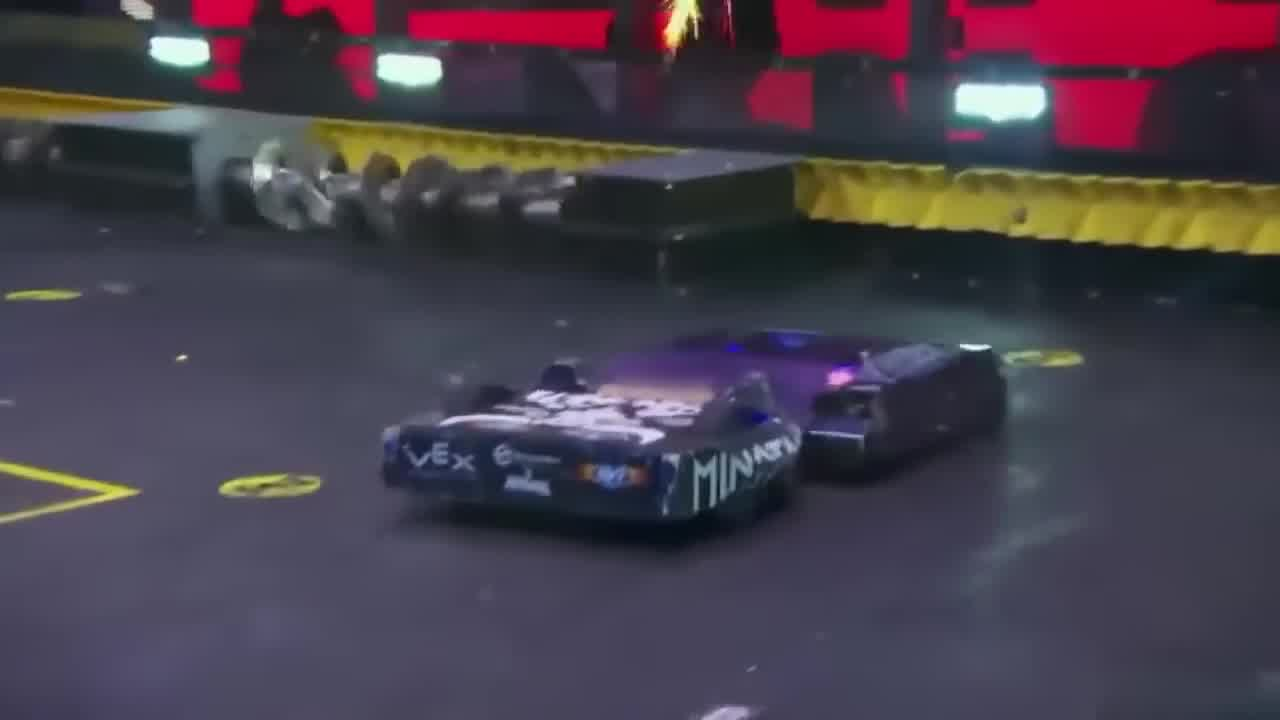combatbot: (382, 359, 807, 544), (723, 336, 1009, 481)
